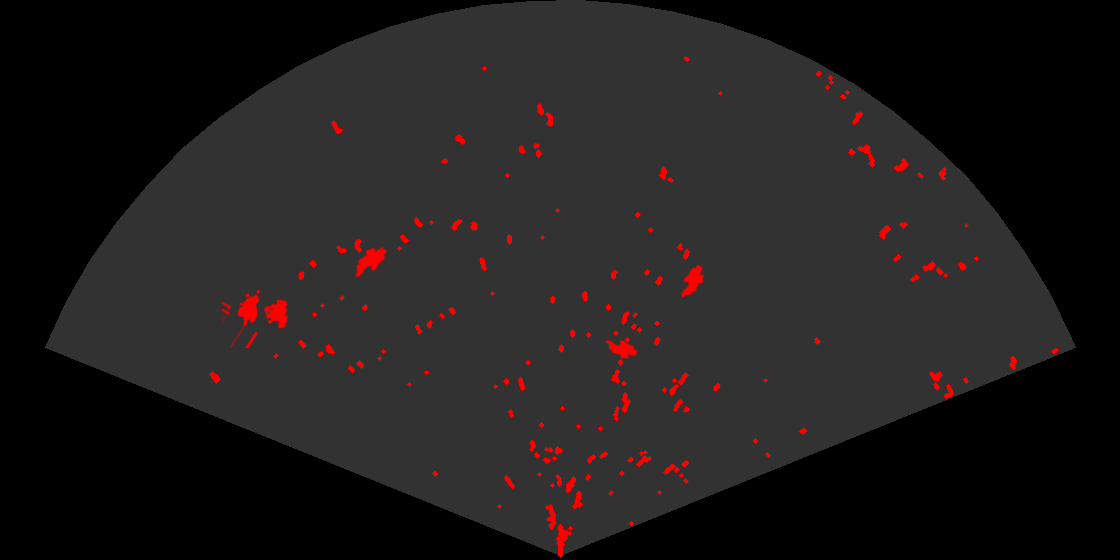AUV: (354, 245, 389, 279), (679, 263, 706, 299), (604, 338, 639, 361)
cage: (222, 288, 290, 348)
